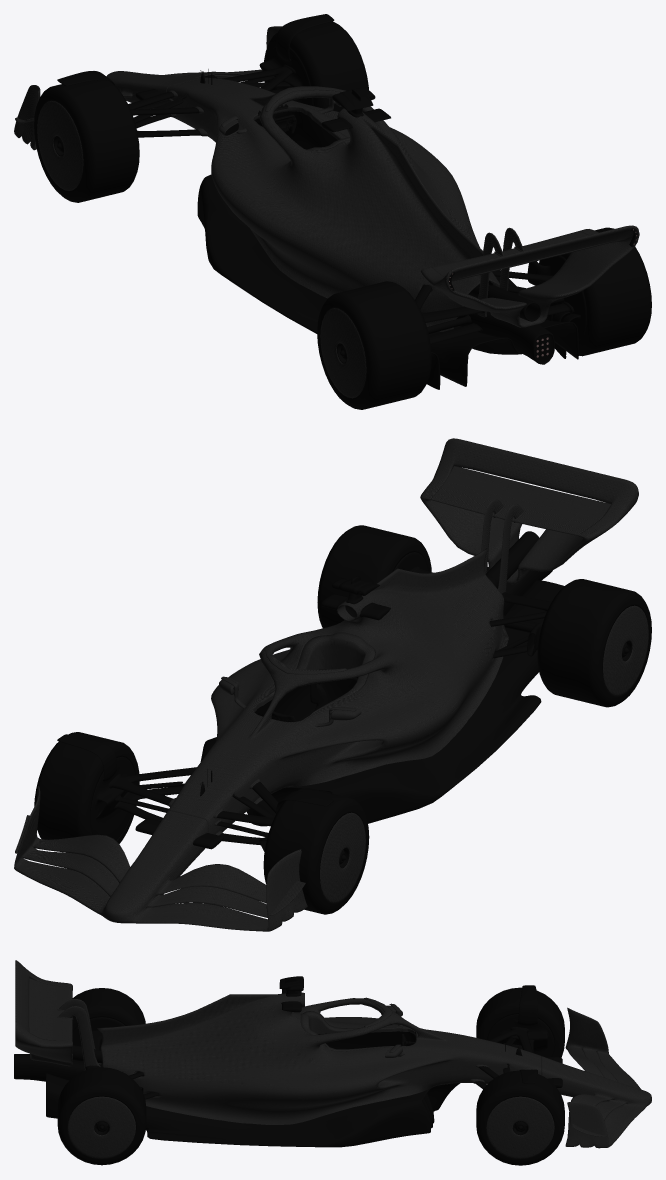
Rendered from mercedes_w13.glb.
3 renders of one model, top to bottom at view 1: azimuth 30°, elevation 25°; view 2: azimuth 150°, elevation 25°; view 3: azimuth 270°, elevation 25°, orthographic. The views are drawn at different scales.
Visible parts, largest first — view 1: WingMirrorHousing_low_Body_Main_0, FrontTyre_Tyre_0, FrontWheelHubInner_Carbon Fiber_0, FronyWheelHub_Body_Wings_0, FronyWheelHub_Titanium_0, T-Cam.004_Glass_0; view 2: WingMirrorHousing_low_Body_Main_0, FronyWheelHub_Body_Wings_0, FrontWheelHubInner_Carbon Fiber_0, FrontTyre_Tyre_0, FronyWheelHub_Titanium_0; view 3: WingMirrorHousing_low_Body_Main_0, FronyWheelHub_Body_Wings_0, FrontWheelHubInner_Carbon Fiber_0, FrontTyre_Tyre_0, FronyWheelHub_Titanium_0.
Boxes of the visible parts, bbox=[...] form: WingMirrorHousing_low_Body_Main_0: bbox=[166, 77, 499, 331]; FrontTyre_Tyre_0: bbox=[34, 21, 651, 409]; FrontWheelHubInner_Carbon Fiber_0: bbox=[57, 14, 635, 389]; FronyWheelHub_Body_Wings_0: bbox=[14, 26, 639, 398]; FronyWheelHub_Titanium_0: bbox=[53, 69, 546, 363]; T-Cam.004_Glass_0: bbox=[258, 96, 637, 362]; WingMirrorHousing_low_Body_Main_0: bbox=[168, 548, 508, 834]; FronyWheelHub_Body_Wings_0: bbox=[14, 438, 648, 931]; FrontWheelHubInner_Carbon Fiber_0: bbox=[57, 552, 564, 851]; FrontTyre_Tyre_0: bbox=[34, 525, 651, 914]; FronyWheelHub_Titanium_0: bbox=[184, 531, 632, 868]; WingMirrorHousing_low_Body_Main_0: bbox=[97, 992, 541, 1124]; FronyWheelHub_Body_Wings_0: bbox=[15, 960, 651, 1158]; FrontWheelHubInner_Carbon Fiber_0: bbox=[14, 976, 562, 1147]; FrontTyre_Tyre_0: bbox=[57, 987, 564, 1165]; FronyWheelHub_Titanium_0: bbox=[72, 1038, 528, 1135].
Size of the model in its own units: 2.01 by 1.24 by 5.18.
Materials: 10 (2 with a texture image).
